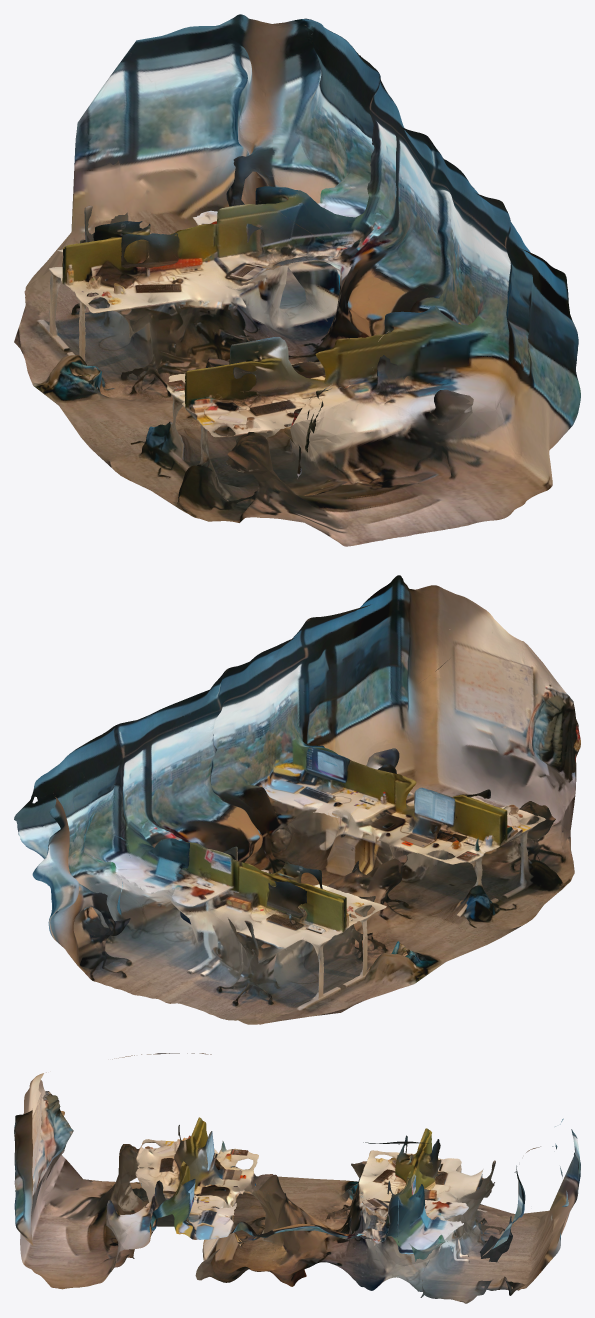
The model's file is office.glb.
3 views of the same model, one above another, from view 1: azimuth 30°, elevation 25°; view 2: azimuth 150°, elevation 25°; view 3: azimuth 270°, elevation 25° (orthographic). The views are drawn at different scales.
Parts seen in each view (by area): view 1: office-scan; view 2: office-scan; view 3: office-scan.
Part boxes in pixels (box(x1,y1,x2,y2)): office-scan: box(14, 14, 580, 546); office-scan: box(14, 575, 580, 1024); office-scan: box(14, 1053, 580, 1303).
Bounding box in the file's own units: 4.98 × 2.77 × 7.97.
1 material, 1 textured.
